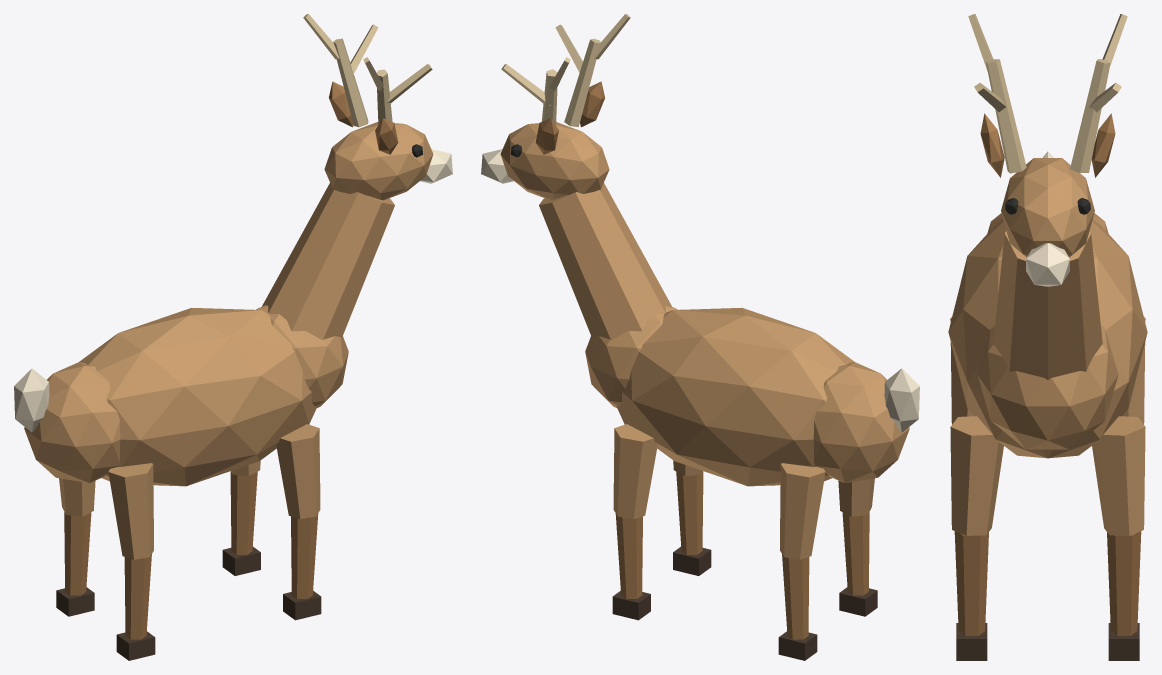
Rendered from bay-deer.glb.
3 renders of one model, left to right at view 1: azimuth 30°, elevation 25°; view 2: azimuth 150°, elevation 25°; view 3: azimuth 270°, elevation 25°, orthographic. The views are drawn at different scales.
Parts seen in each view (by area): view 1: GEO-deer_body, GEO-deer_neck, GEO-deer_rump, GEO-deer_head, GEO-deer_thigh_-1_-1, GEO-deer_thigh_1_-1, GEO-deer_chest, GEO-deer_shin_1_-1, GEO-deer_shin_-1_-1, GEO-deer_shin_-1_1, GEO-deer_shin_1_1, GEO-deer_tail (+8 smaller); view 2: GEO-deer_body, GEO-deer_neck, GEO-deer_rump, GEO-deer_head, GEO-deer_thigh_-1_1, GEO-deer_thigh_1_1, GEO-deer_chest, GEO-deer_shin_1_1, GEO-deer_shin_-1_1, GEO-deer_shin_-1_-1, GEO-deer_shin_1_-1, GEO-deer_tail (+8 smaller); view 3: GEO-deer_body, GEO-deer_neck, GEO-deer_chest, GEO-deer_head, GEO-deer_thigh_1_-1, GEO-deer_thigh_1_1, GEO-deer_shin_1_-1, GEO-deer_shin_1_1, GEO-deer_antler_-1, GEO-deer_antler_1, GEO-deer_muzzle, GEO-deer_hoof_1_-1 (+9 smaller).
Part boxes in pixels (x1,y1,x2,y2): GEO-deer_body: (79,307,317,486); GEO-deer_neck: (262,183,394,340); GEO-deer_rump: (24,362,120,482); GEO-deer_head: (324,122,433,200); GEO-deer_thigh_-1_-1: (108,463,153,559); GEO-deer_thigh_1_-1: (276,424,320,519); GEO-deer_chest: (256,305,348,407); GEO-deer_shin_1_-1: (291,513,318,598); GEO-deer_shin_-1_-1: (124,554,151,639); GEO-deer_shin_-1_1: (64,512,91,595); GEO-deer_shin_1_1: (230,471,257,554); GEO-deer_tail: (14,368,49,432); GEO-deer_body: (616,307,854,486); GEO-deer_neck: (539,183,671,340); GEO-deer_rump: (813,362,909,482); GEO-deer_head: (500,122,609,200); GEO-deer_thigh_-1_1: (780,463,825,559); GEO-deer_thigh_1_1: (613,424,657,519); GEO-deer_chest: (585,305,677,407); GEO-deer_shin_1_1: (615,513,642,598); GEO-deer_shin_-1_1: (782,554,809,639); GEO-deer_shin_-1_-1: (842,512,869,595); GEO-deer_shin_1_-1: (676,471,703,554); GEO-deer_tail: (884,368,919,432); GEO-deer_body: (948,219,1147,458); GEO-deer_neck: (993,231,1102,379); GEO-deer_chest: (977,325,1118,449); GEO-deer_head: (1001,158,1094,257); GEO-deer_thigh_1_-1: (950,416,1003,535); GEO-deer_thigh_1_1: (1092,416,1145,535); GEO-deer_shin_1_-1: (954,531,988,635); GEO-deer_shin_1_1: (1107,531,1141,635); GEO-deer_antler_-1: (986,59,1026,173); GEO-deer_antler_1: (1070,59,1110,172); GEO-deer_muzzle: (1026,243,1069,286); GEO-deer_hoof_1_-1: (956,623,987,660).
Size of the model in its own units: 1.84 by 2.17 by 0.576.
